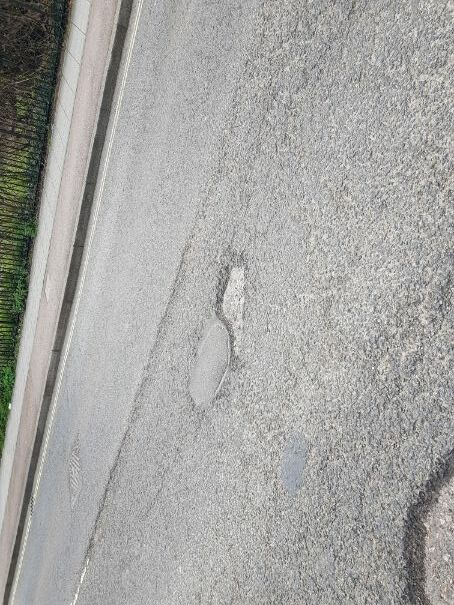pothole: (396, 432, 452, 605), (209, 248, 256, 358)
